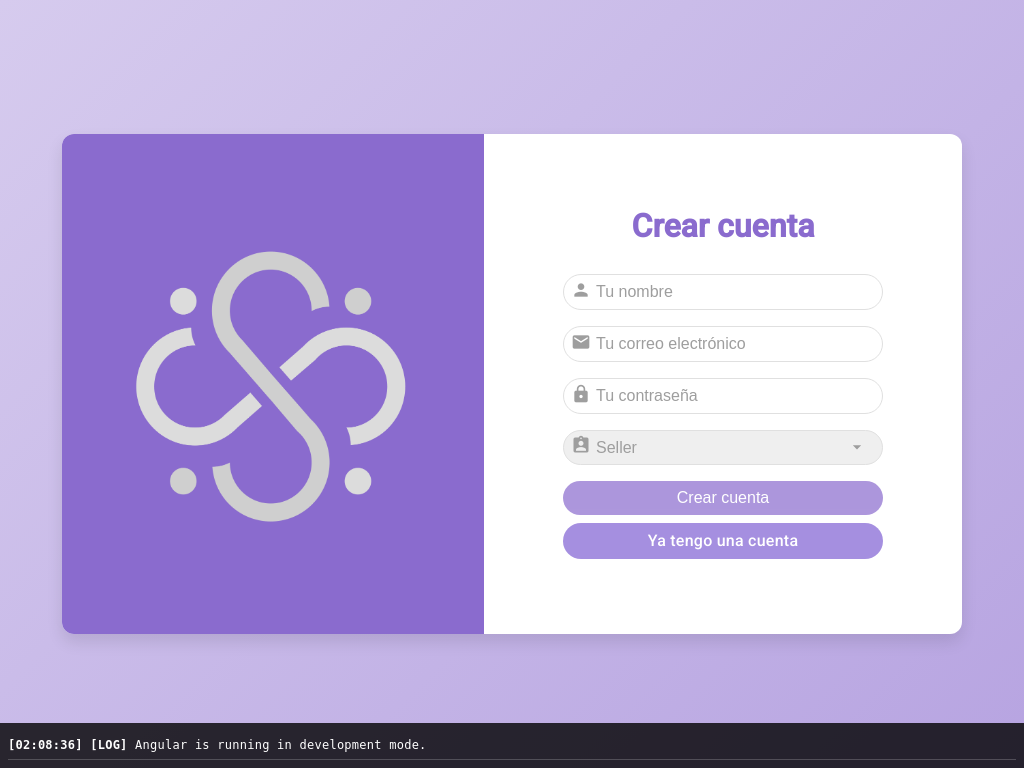
Register Component › should show error message on registration failure
# Fill valid form
In the field named "name": (723, 292) x1=563 y1=274 x2=883 y2=310, type "Test User"
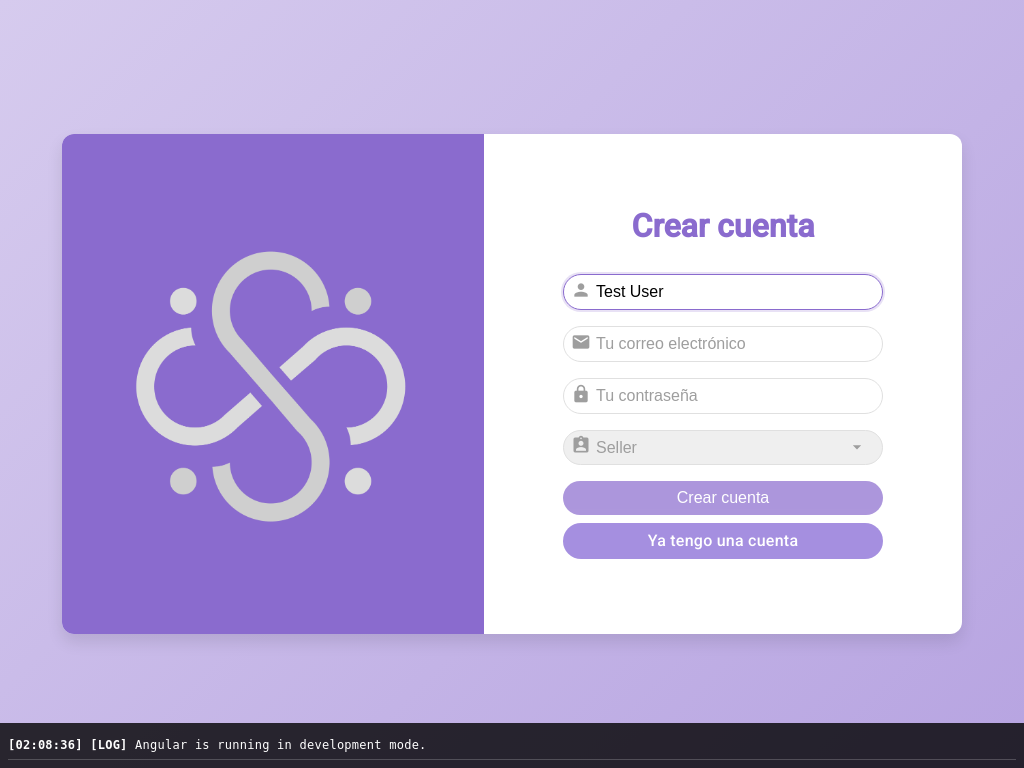
In the field named "email": (723, 344) x1=563 y1=326 x2=883 y2=362, type "test@example.com"
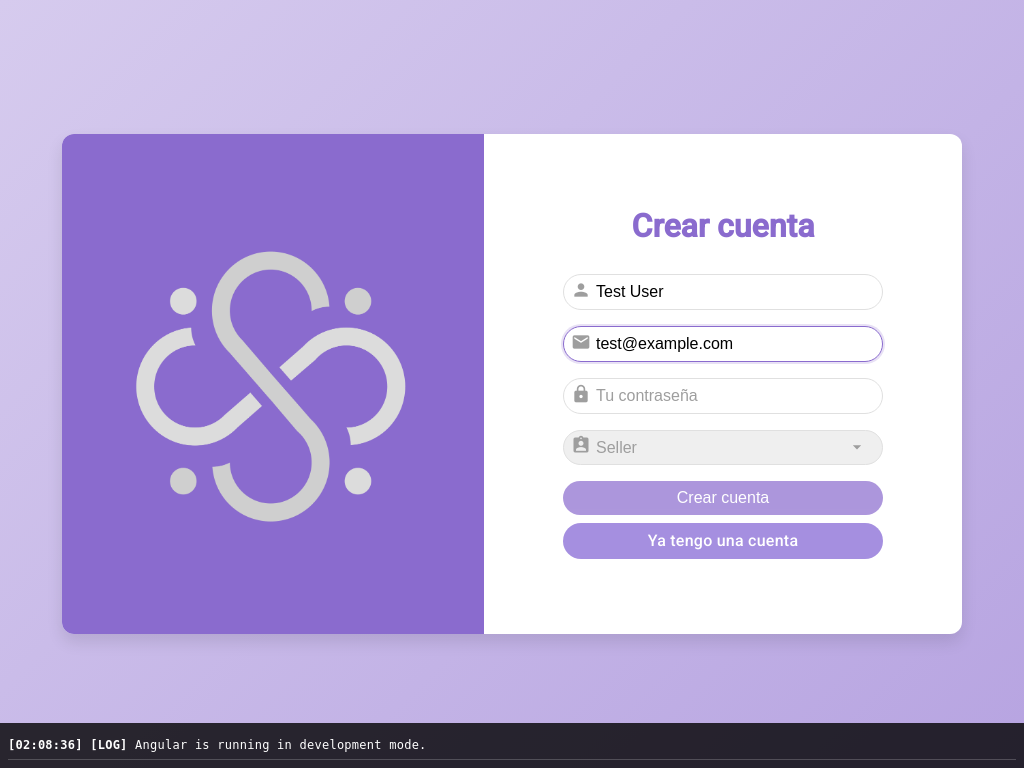
In the password field named "password": (723, 396) x1=563 y1=378 x2=883 y2=414, type "Test123!"
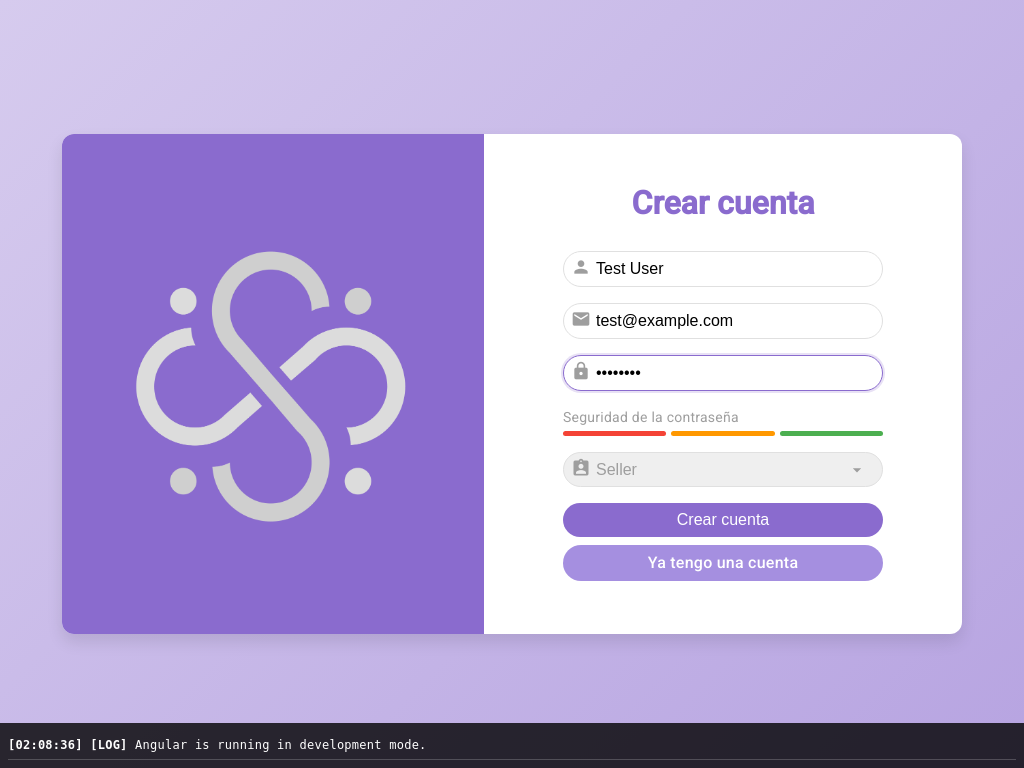
Select "Seller" in the dropdown named "role": (723, 470) x1=563 y1=452 x2=883 y2=487
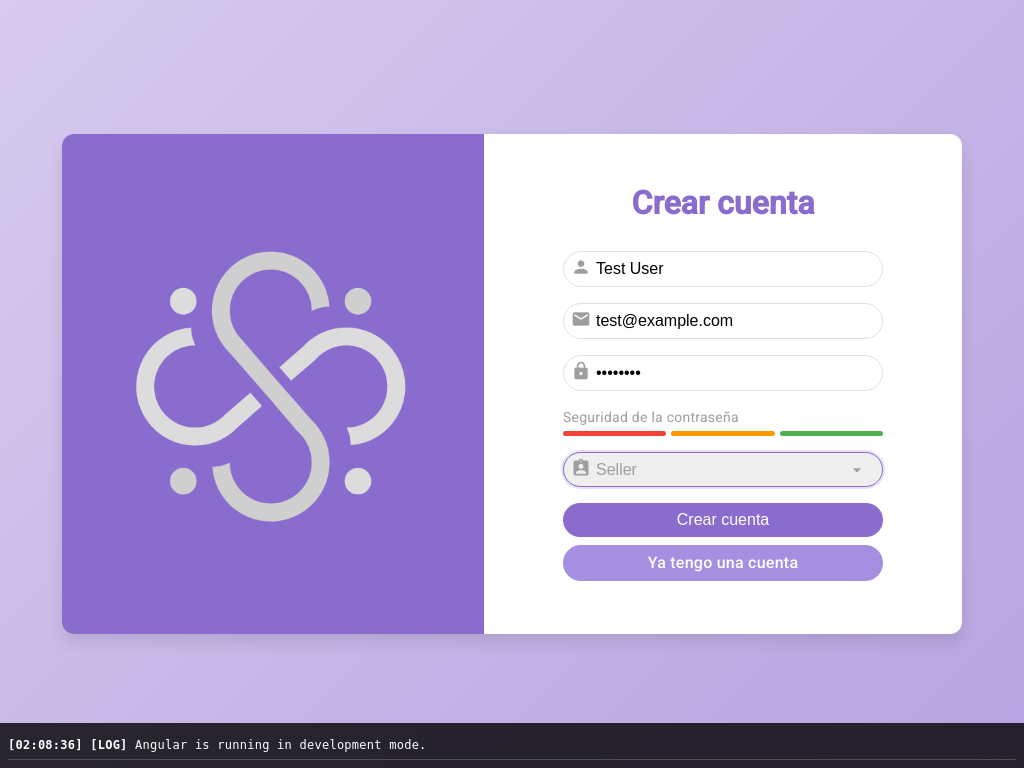
# Submit form
Click the button with class "create-account-btn": (723, 520) x1=563 y1=503 x2=883 y2=537
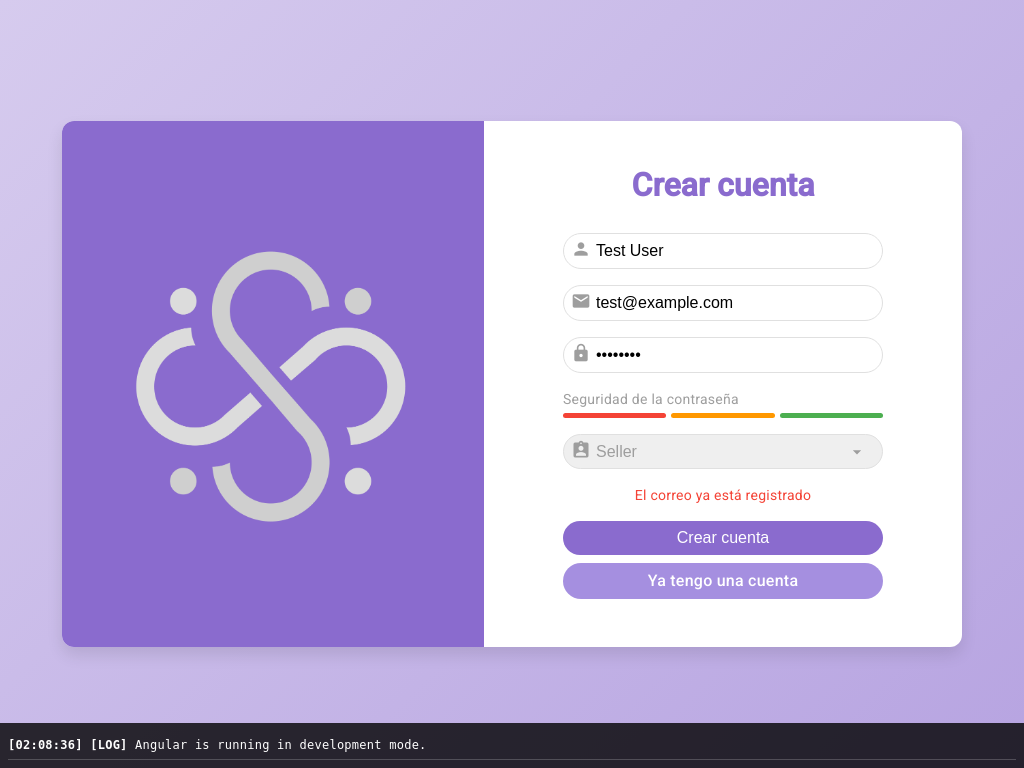
Expected: the text with class "error-message" reads "El correo ya está registrado", x1=635 y1=487 x2=811 y2=503
